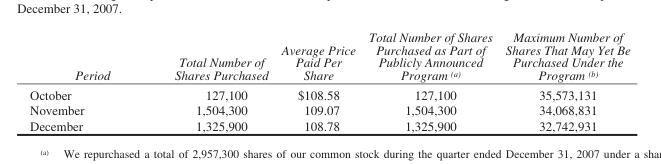table: (29, 29, 629, 132)
table column: (361, 29, 498, 132), (141, 29, 274, 132), (498, 29, 629, 132), (29, 29, 141, 132), (274, 29, 361, 132)
table column header: (29, 29, 629, 84)
table row: (29, 29, 629, 84), (29, 84, 629, 102), (29, 102, 629, 117), (29, 117, 629, 132)
